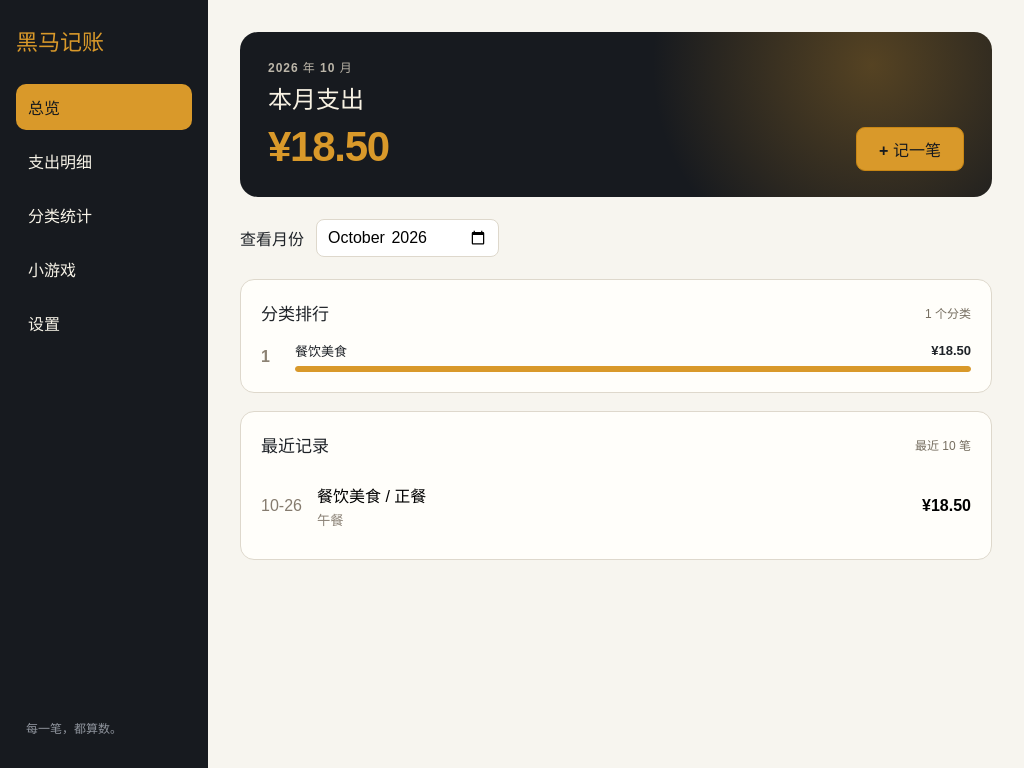
it: expense workflows › shows local data controls and application information
Click the button "设置": (104, 323) x1=16 y1=300 x2=192 y2=346
(page scrolled)
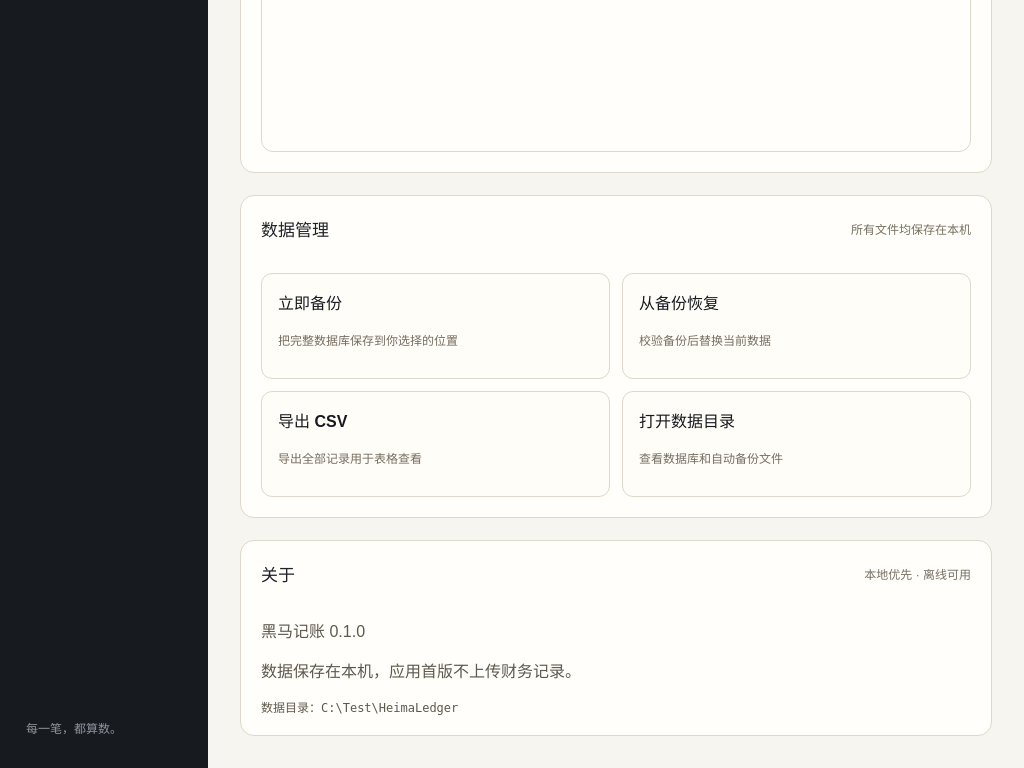
Result: the text "黑马记账 0.1.0" is shown at x1=261 y1=623 x2=365 y2=640
Result: the button "立即备份 把完整数据库保存到你选择的位置" is shown at x1=261 y1=273 x2=610 y2=379
Result: the button "从备份恢复 校验备份后替换当前数据" is shown at x1=622 y1=273 x2=971 y2=379
